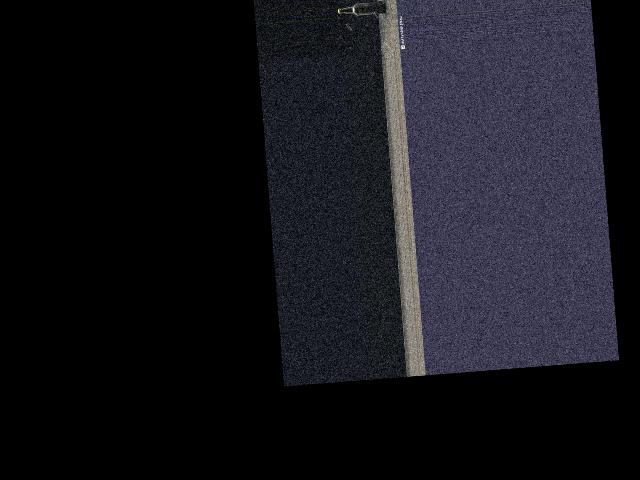beer: (338, 0, 386, 15)
